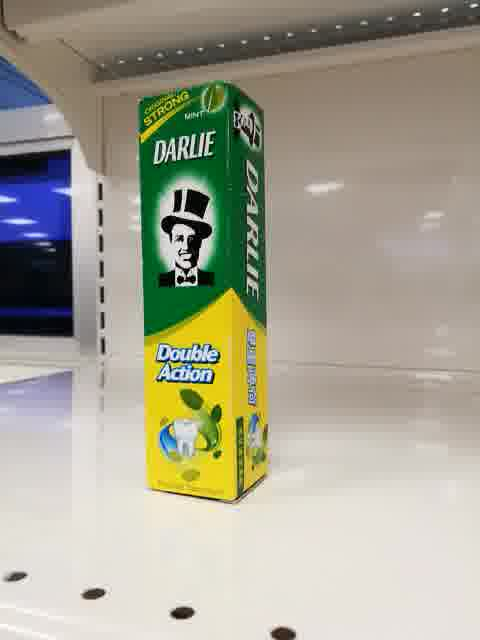toothpaste: (138, 82, 269, 506)
